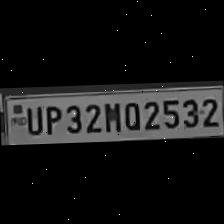2: (198, 93, 220, 126), (82, 98, 102, 132), (140, 96, 158, 130)
3: (61, 100, 81, 134), (179, 94, 199, 127)
5: (158, 94, 178, 128)
M: (100, 97, 120, 132)
P: (42, 100, 62, 134)
Q: (120, 98, 140, 131)
U: (22, 102, 42, 134)
